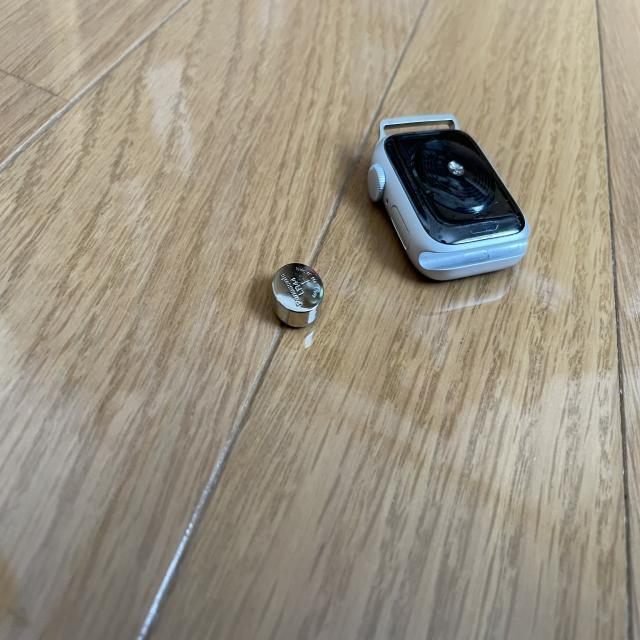COIN: (270, 262, 324, 330)
